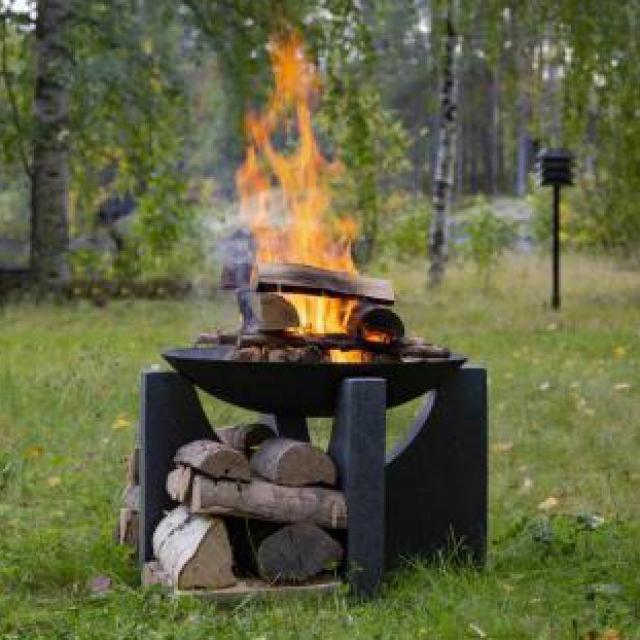fire: (256, 41, 357, 319)
smoke: (141, 4, 240, 325)
